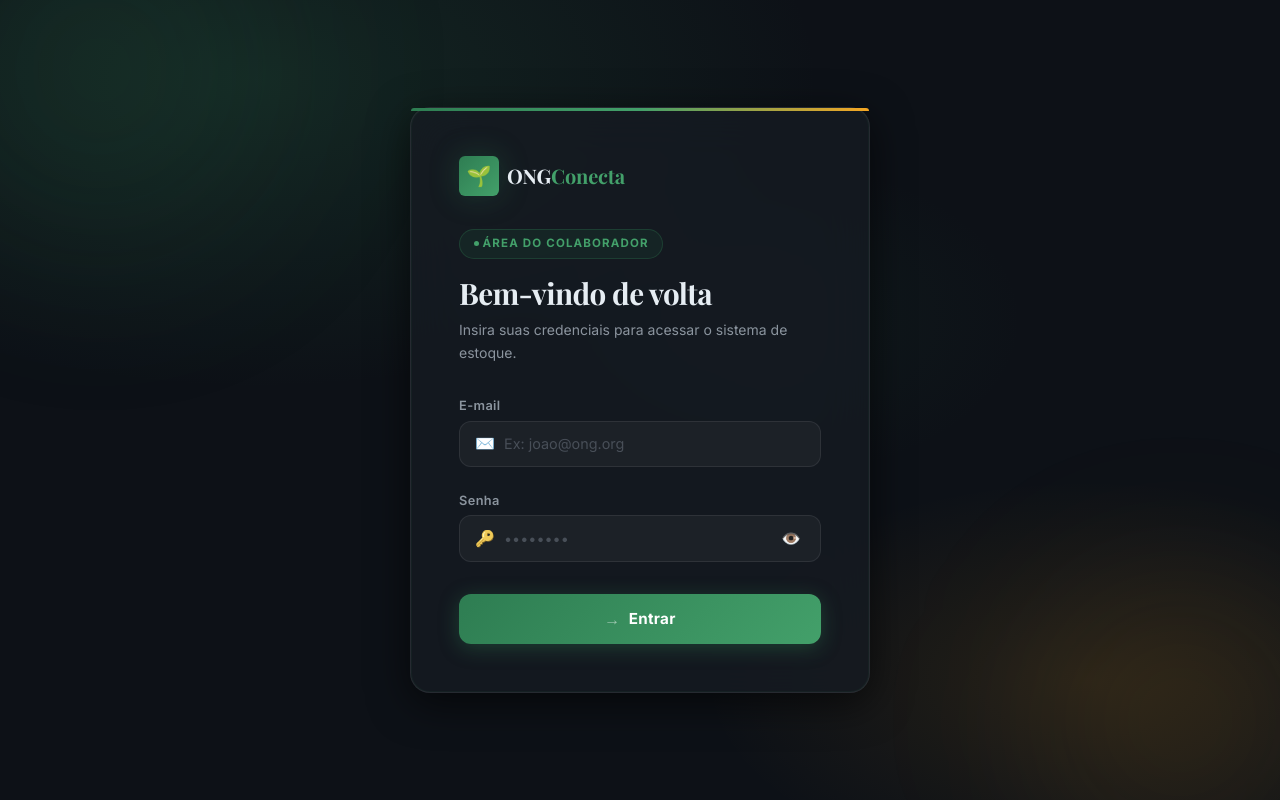
Test: App — fluxo de navegação › navega para a página de Lotes a partir do StockOverview
Type "admin@ong.org" into the field labelled "E-mail" at (640, 444), box [459,421,821,467]
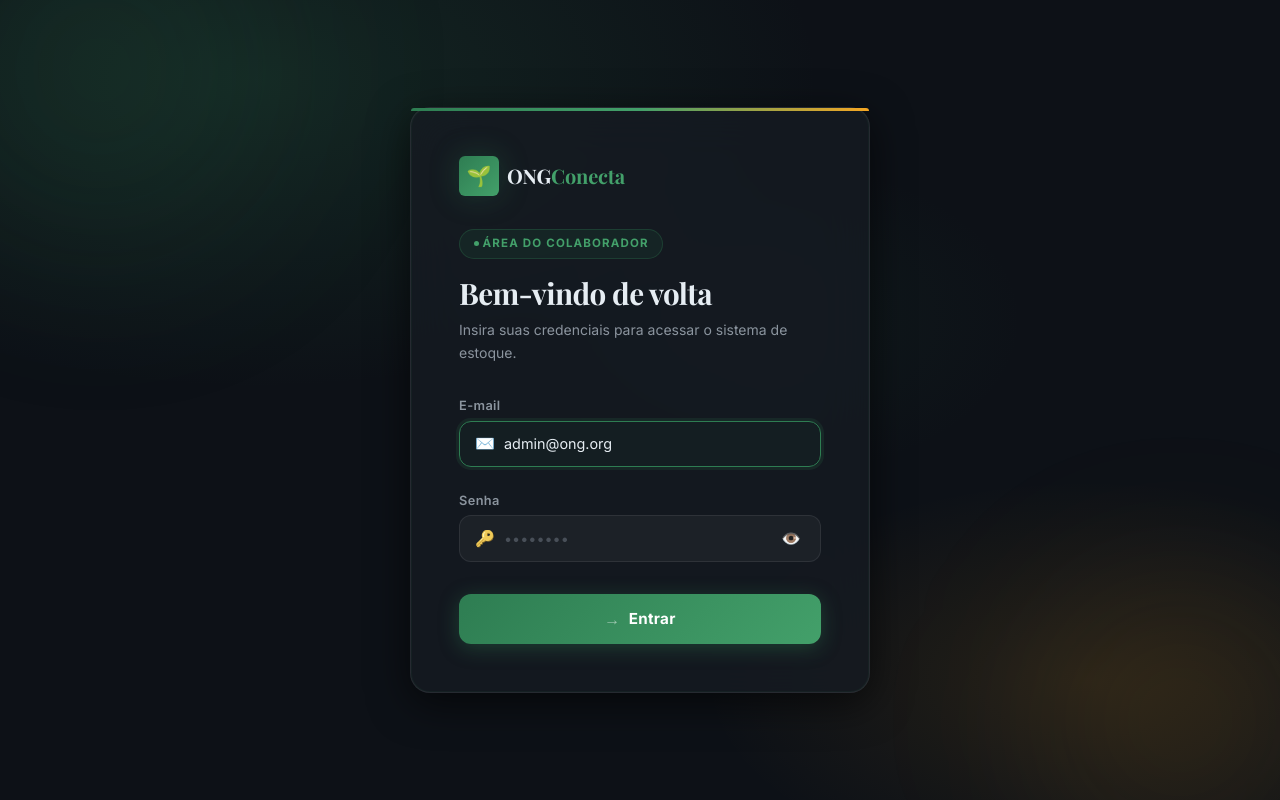
Type "senha123" into the password field with id "login-password" at (640, 538), box [459,515,821,562]
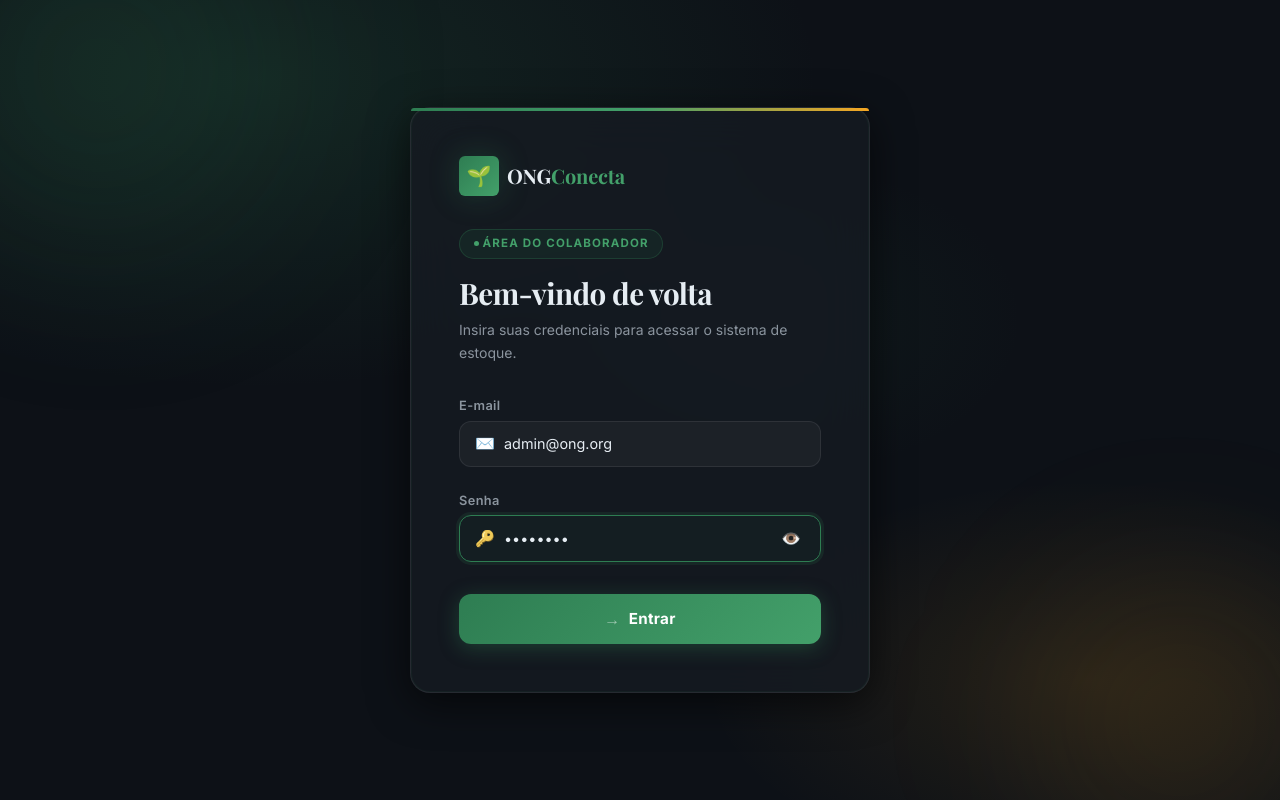
Click the button "→ Entrar" at (640, 619), box [459,594,821,644]
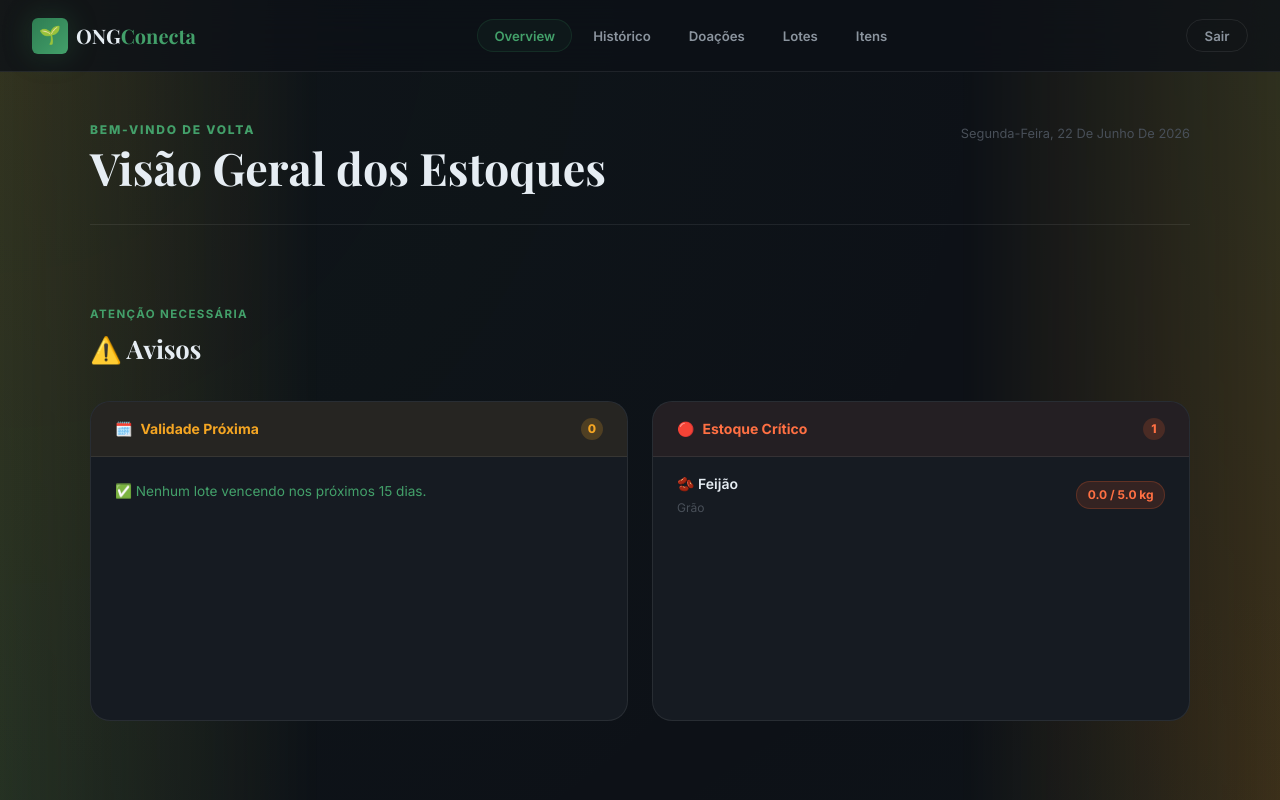
Expected: the button "Lotes" is shown
Click the button "Lotes" at (800, 36), box [766,19,835,52]
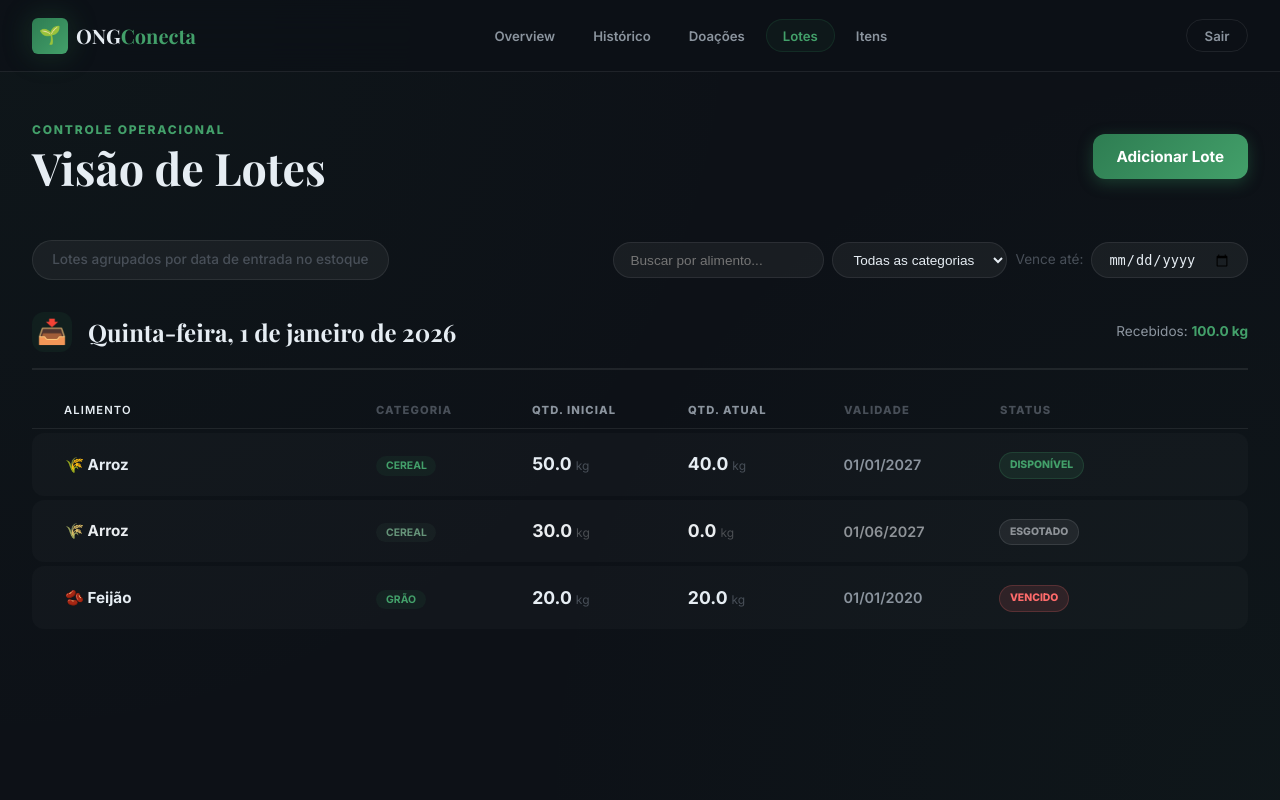
Expected: the heading "Visão de Lotes" is shown, [32,143,326,192]
